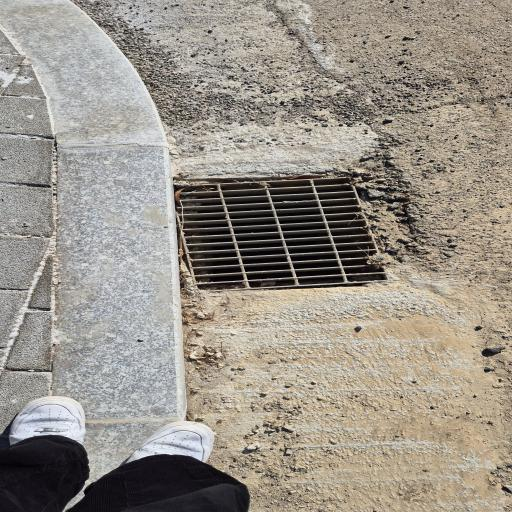drain: (178, 178, 387, 291)
